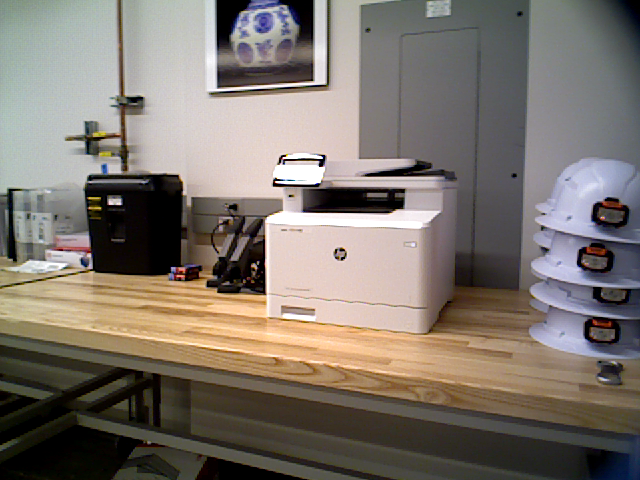painting2: (201, 1, 337, 97)
